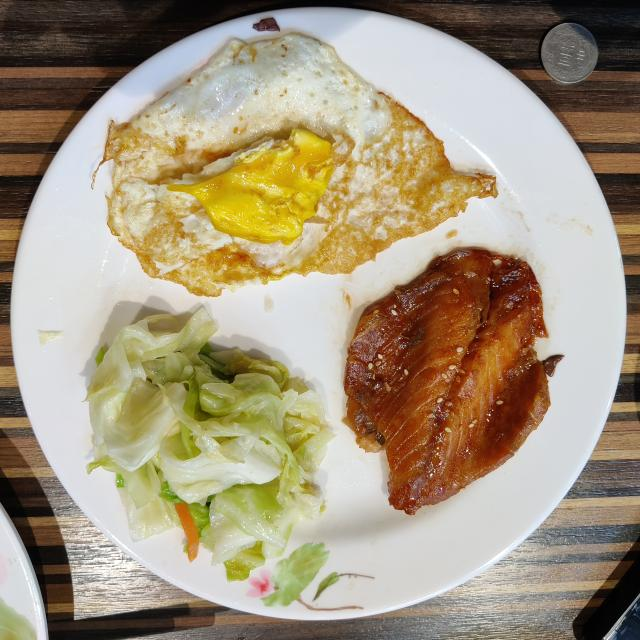Kabayaki sea bream fillet: (345, 249, 550, 514)
cabbage: (86, 309, 332, 580)
coin: (541, 22, 599, 84)
